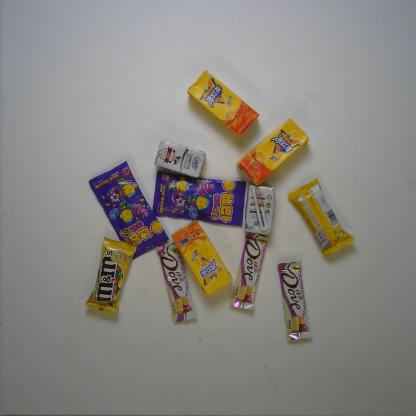Candy: (88, 160, 171, 260), (152, 169, 247, 227)
Chocolate: (288, 178, 355, 257), (83, 236, 137, 315), (228, 230, 270, 312), (156, 242, 198, 324), (276, 260, 312, 343)
Drink: (235, 117, 311, 186), (169, 218, 234, 296), (186, 69, 260, 137)
Milk: (153, 140, 207, 179), (243, 183, 275, 236)
